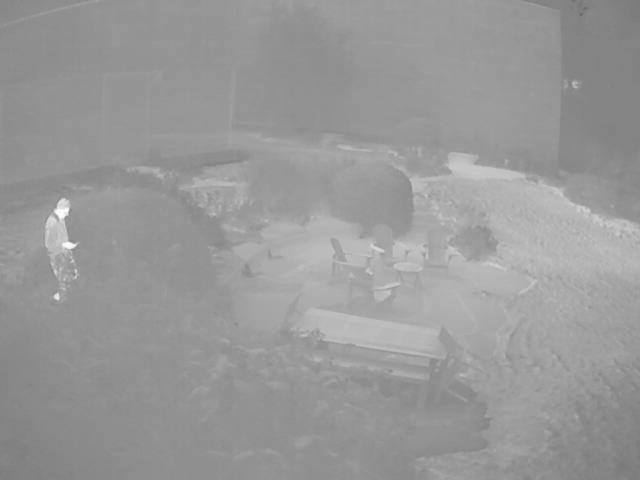person: (46, 195, 78, 306)
